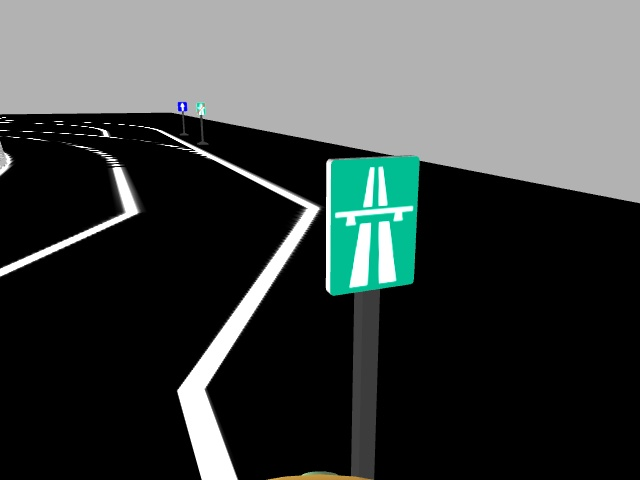HighwayEntrance: (321, 153, 419, 290)
